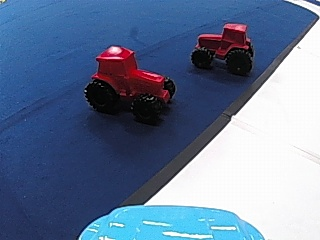Tracktor: (80, 44, 179, 122), (190, 20, 255, 74)
